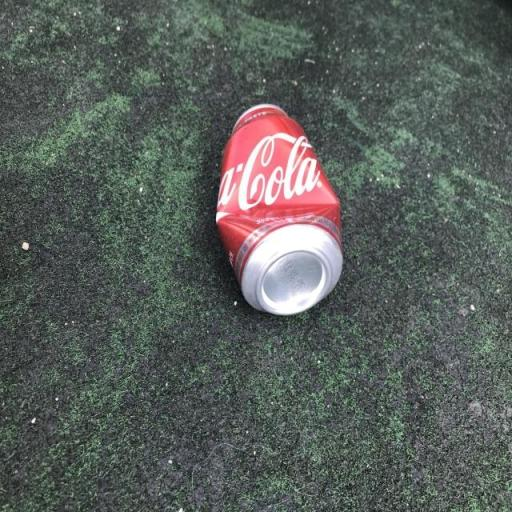metal: (205, 84, 353, 340)
